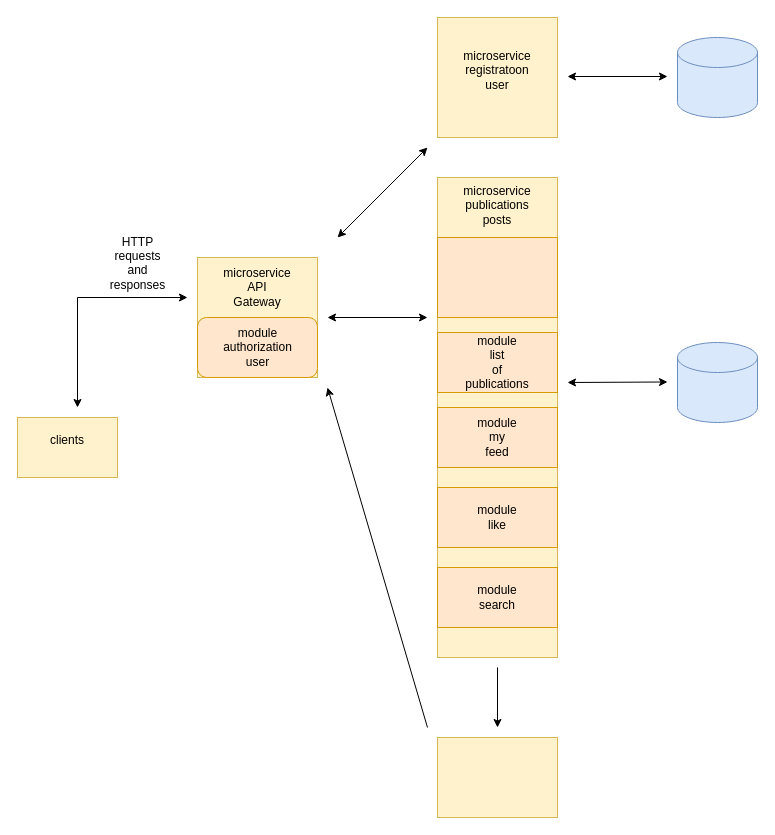
Some shapes in this 775 by 835 pixel diagram are drawn without their labels. The centre of each missing label's shape, as x and y in pixels:
microservice notification of new publications: point (497, 777)
module publications posts in the block: point (497, 277)
Mongo DB: point (717, 77)
PostgreSQL: point (717, 382)
